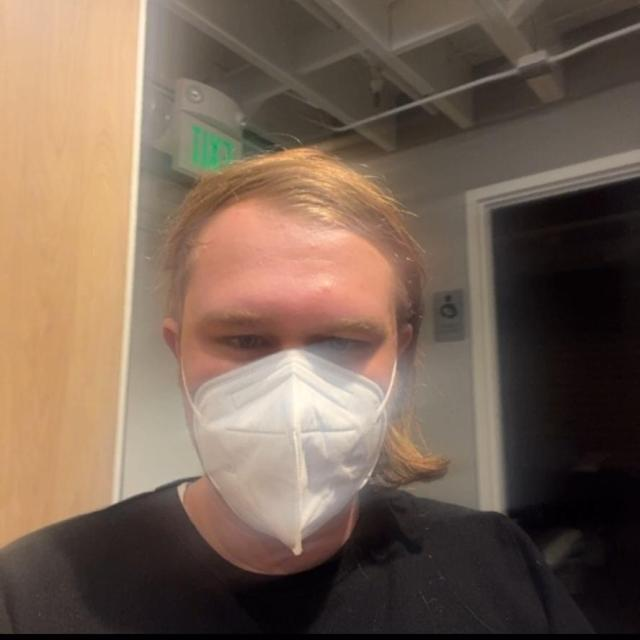no-helmet: (133, 150, 455, 594)
